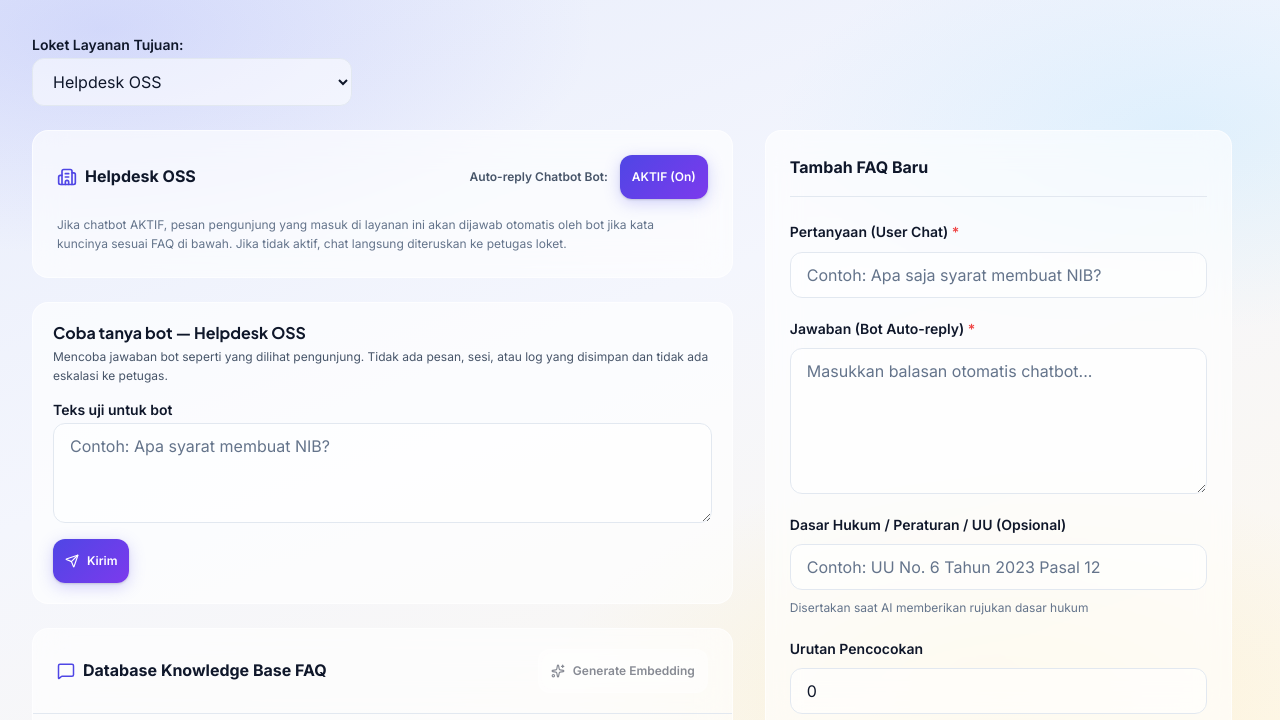
admin FAQ: toggle bot hanya untuk Admin › admin: tombol toggle ada dan memperbarui layanan.chatbot_aktif
Click the button "AKTIF (On)" at (664, 177), box x1=620 y1=155 x2=708 y2=199
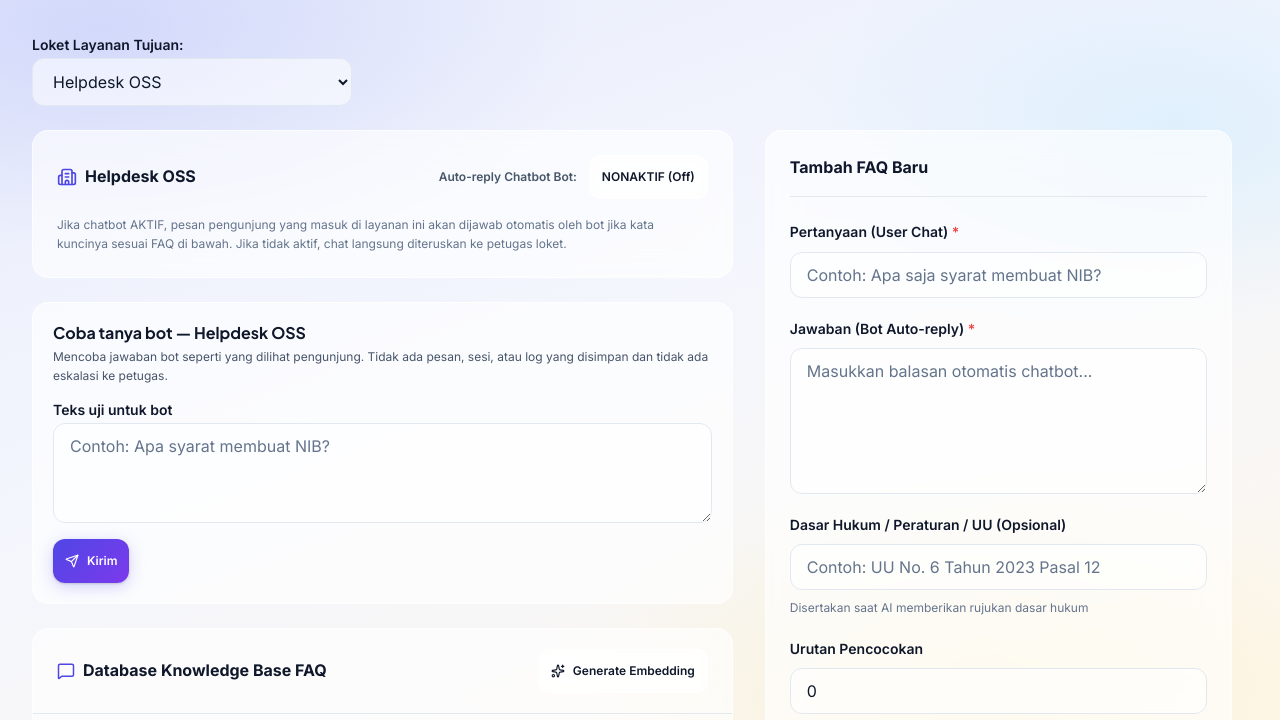
Result: the button "NONAKTIF (Off)" is shown at x1=589 y1=155 x2=708 y2=199
